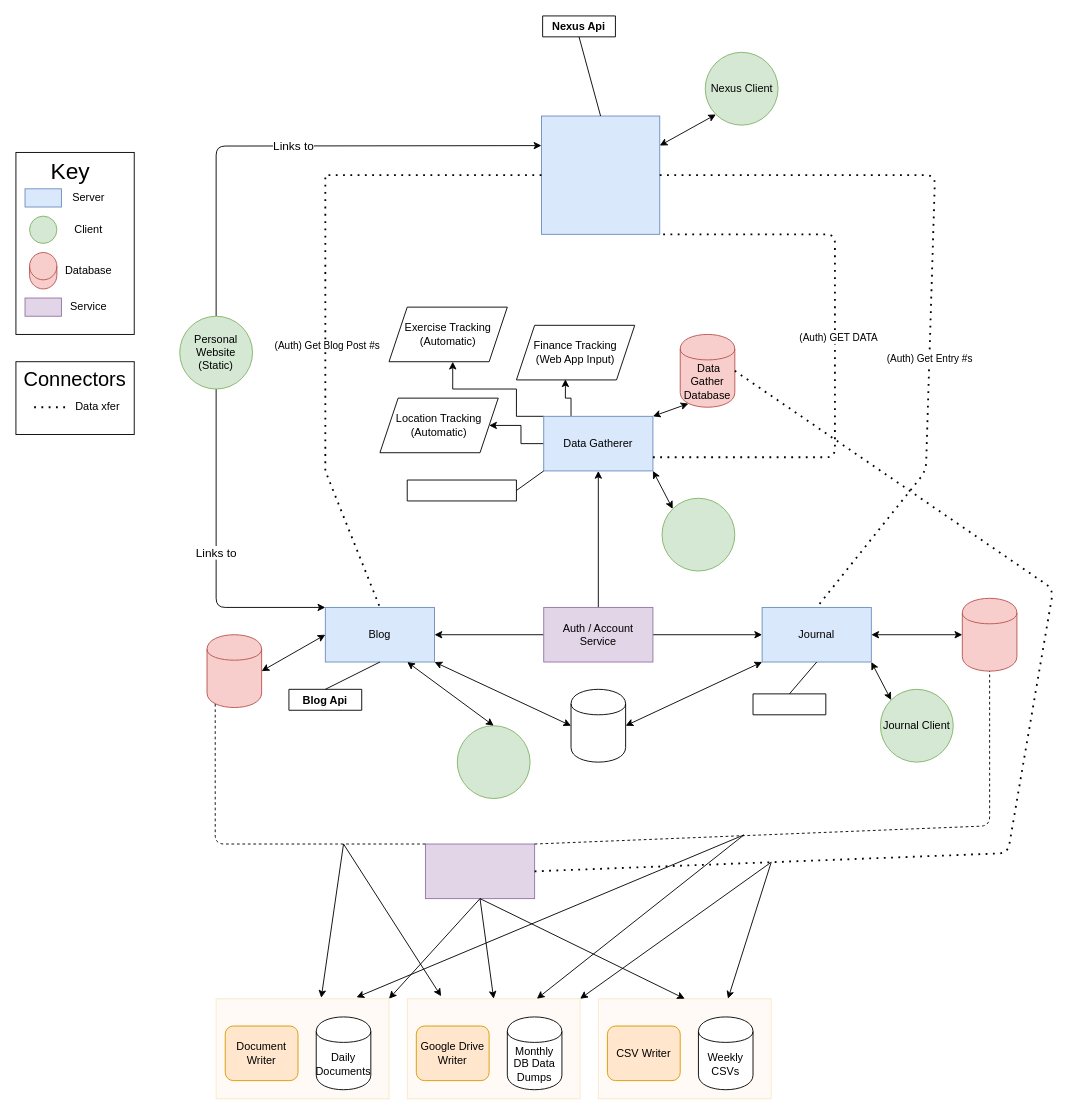
The diagram is 1071 pixels wide and 1115 high, and some of its shapes have lost their labels. The centre of each missing label's shape, as x and y in pixels:
"Blog Client" goes at [493,762].
"Blog Database" goes at [234,671].
"Data Backup Service" goes at [480,871].
"Data Gatherer Api" goes at [461,490].
"Image Store" goes at [598,725].
"Journal Api" goes at [789,704].
"Journal Database" goes at [989,634].
"Manual Data Input Client" goes at [698,534].
"Nexus (Data Aggregator) In Calendar / Chart Display" goes at [600,174].
